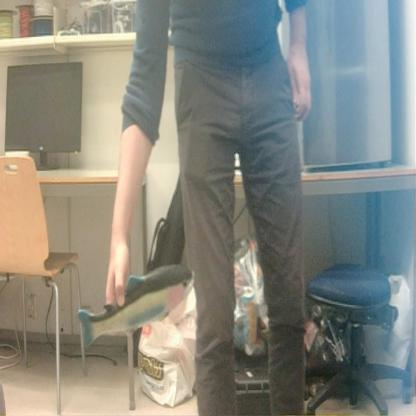rubberfish: (75, 254, 198, 355)
